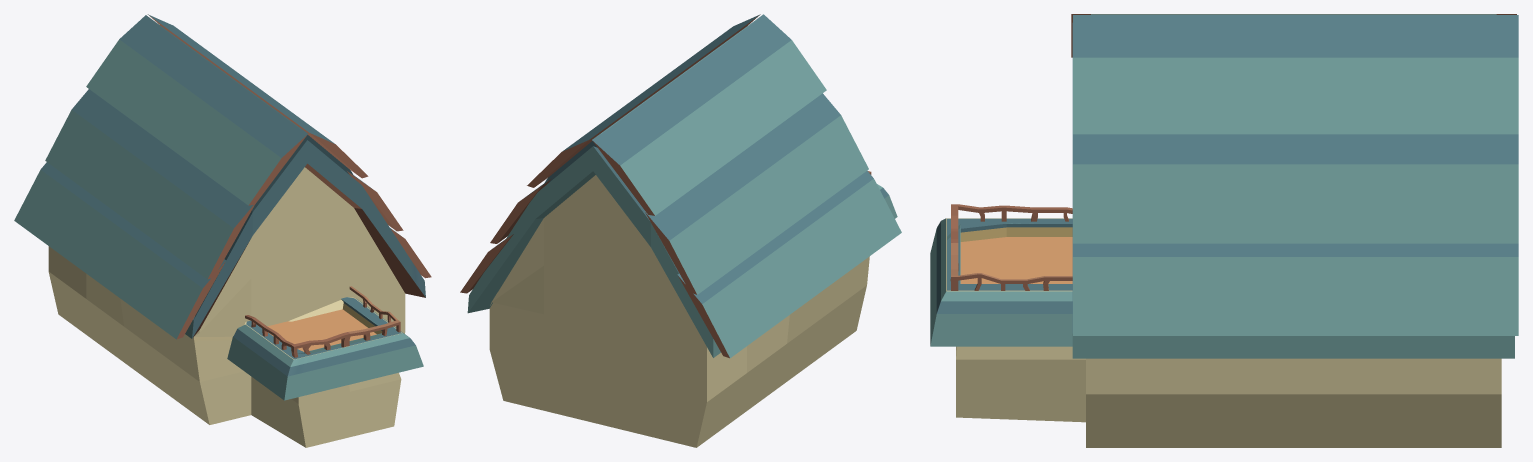
The model's file is lonely_housefbx.fbx.
3 views of the same model, side by side, from view 1: azimuth 30°, elevation 25°; view 2: azimuth 150°, elevation 25°; view 3: azimuth 270°, elevation 25° (orthographic). The views are drawn at different scales.
Parts seen in each view (by area): view 1: Cube; view 2: Cube; view 3: Cube.
Part boxes in pixels (left/top/right/bottom): Cube: left=14, top=14, right=431, bottom=447; Cube: left=460, top=14, right=901, bottom=447; Cube: left=930, top=14, right=1518, bottom=447.
Bounding box in the file's own units: 5.62 × 5.74 × 8.17.
1 material, 1 textured.
